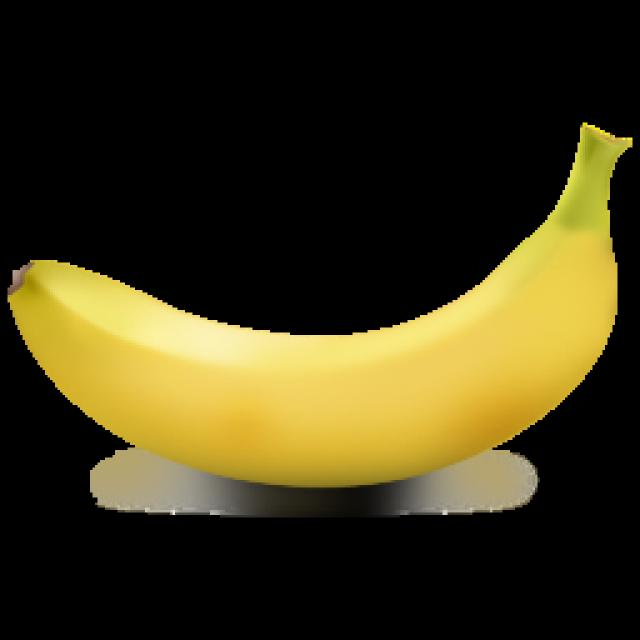Banana: (4, 70, 640, 574)
